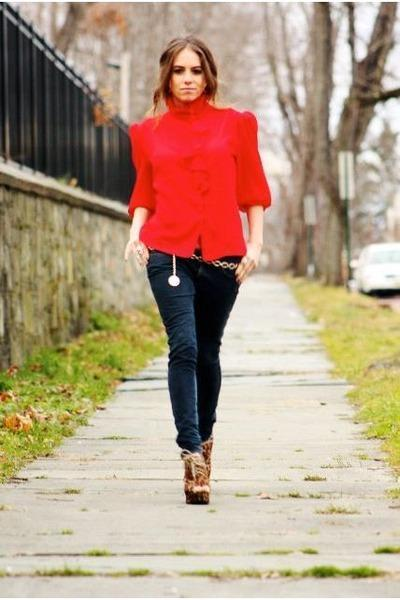pants: (146, 249, 242, 451)
shirt: (129, 96, 270, 268)
shoe: (177, 433, 216, 504)
